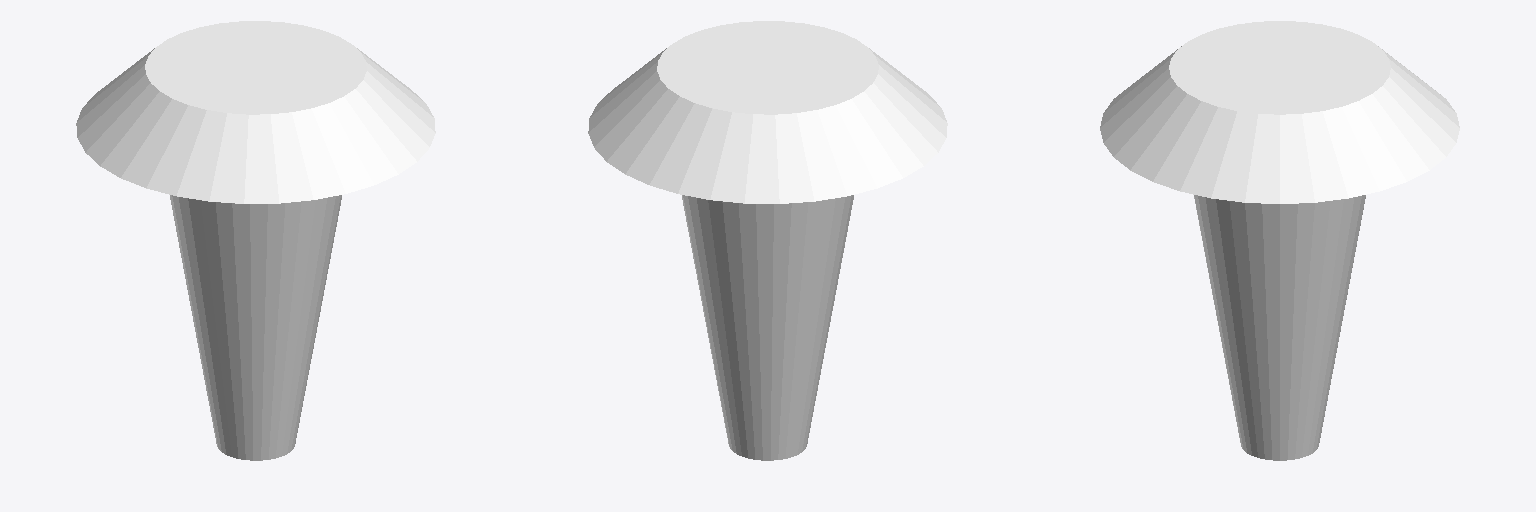
The model's file is pin.obj.
3 renders of one model, left to right at view 1: azimuth 30°, elevation 25°; view 2: azimuth 150°, elevation 25°; view 3: azimuth 270°, elevation 25°, orthographic.
Visible parts, largest first — view 1: Cylinder.025; view 2: Cylinder.025; view 3: Cylinder.025.
Part boxes in pixels (bbox=[...]): Cylinder.025: bbox=[76, 21, 435, 460]; Cylinder.025: bbox=[588, 21, 947, 460]; Cylinder.025: bbox=[1100, 21, 1459, 460].
Size of the model in its own units: 0.1013 by 0.1168 by 0.1013.